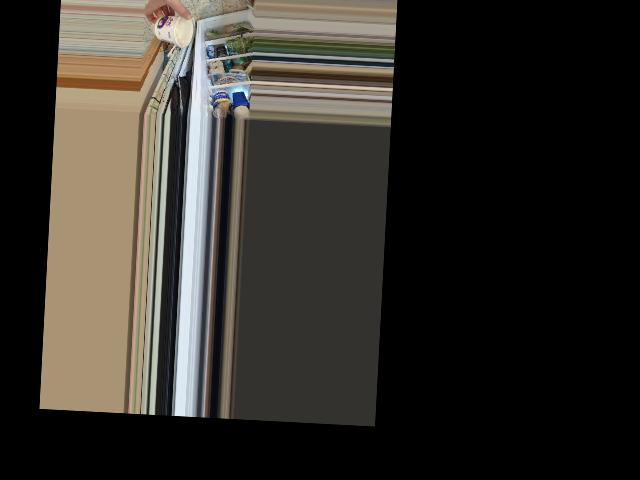cotage: (154, 12, 194, 45)
